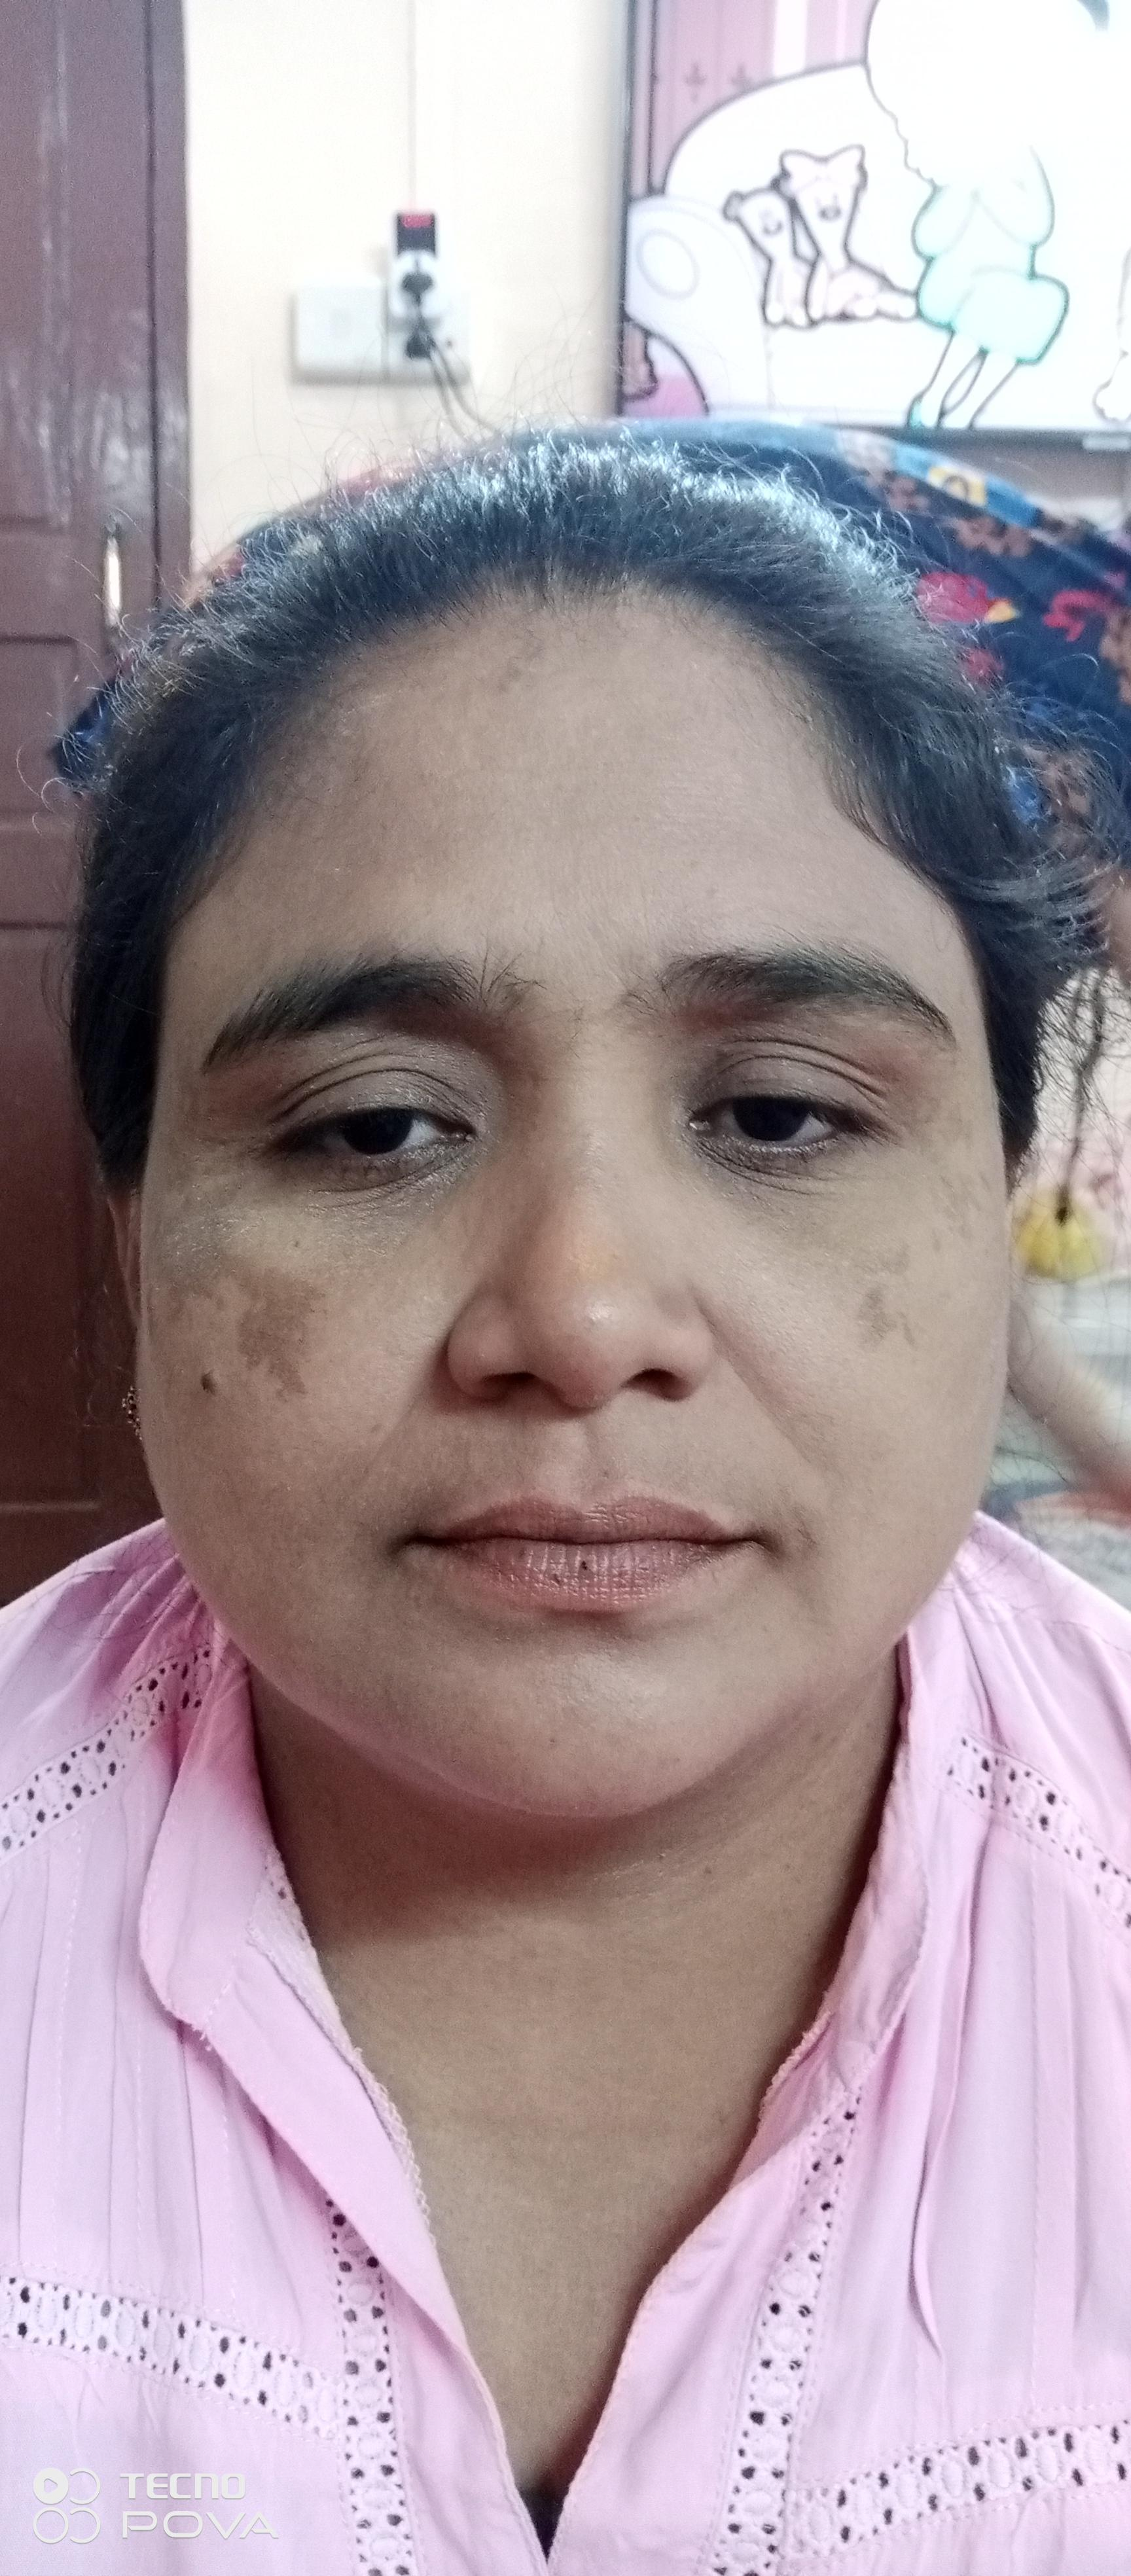Dry-Skin: (151, 1199, 248, 1272)
Eyebags: (666, 1125, 901, 1224), (235, 1137, 498, 1222)
Wrinkles: (710, 1332, 825, 1483), (335, 1373, 436, 1508)
